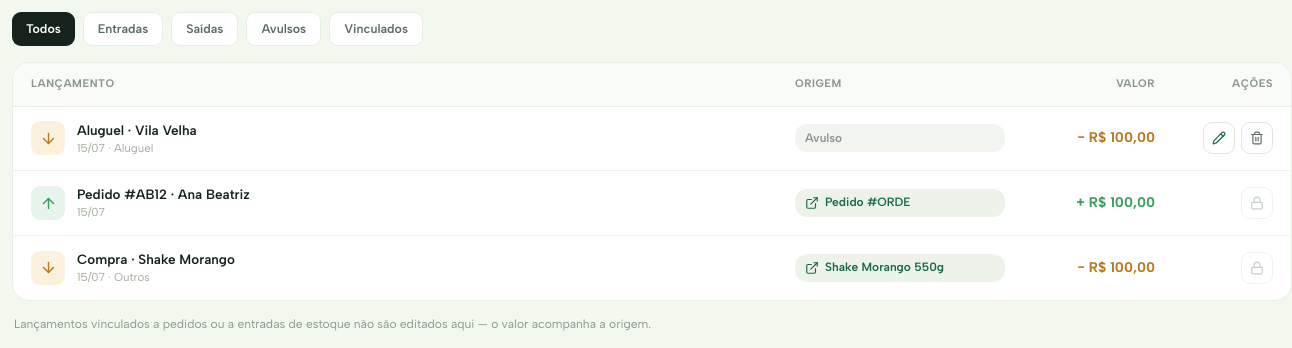
Test: MovimentacoesClient › filter pills narrow the visible rows
The width and height of the screenshot is (1292, 348).
Expected: the text "Aluguel · Vila Velha" is shown, [77,120,197,140]
Expected: the text "Pedido #AB12 · Ana Beatriz" is shown, [77,185,250,204]
Click the button "Avulsos" at (284, 29), box [246,12,321,46]
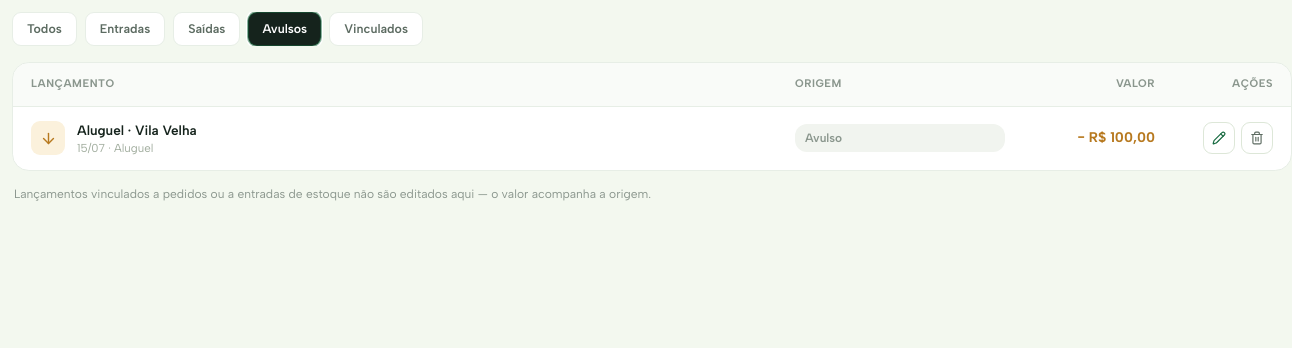
Expected: the text "Aluguel · Vila Velha" is shown, [77,120,197,140]
Now the text "Pedido #AB12" is gone
Now the text "Compra · Shake Morango" is gone
Click the button "Vinculados" at (376, 29), box [329,12,423,46]
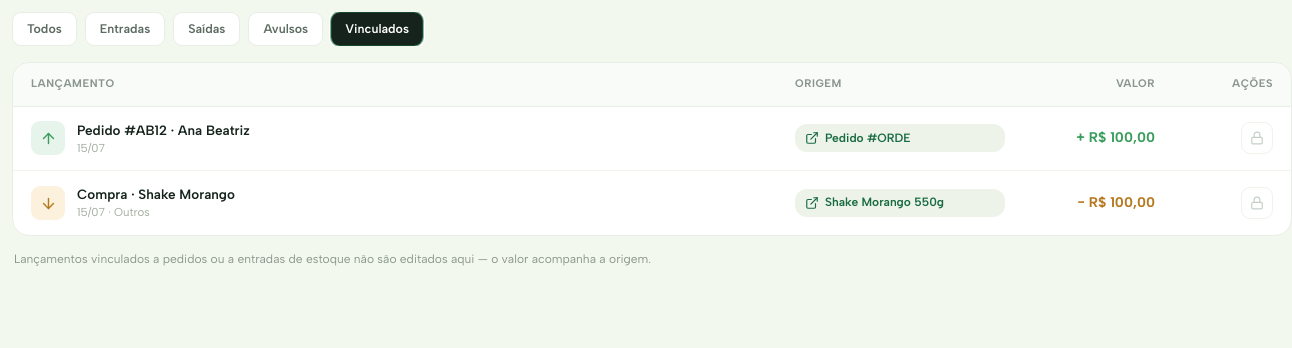
Now the text "Aluguel · Vila Velha" is gone
Now the text "Pedido #AB12 · Ana Beatriz" is shown, box [77,120,250,140]
Now the text "Compra · Shake Morango" is shown, box [77,185,235,204]
Click the button "Entradas" at (125, 29), box [85,12,165,46]
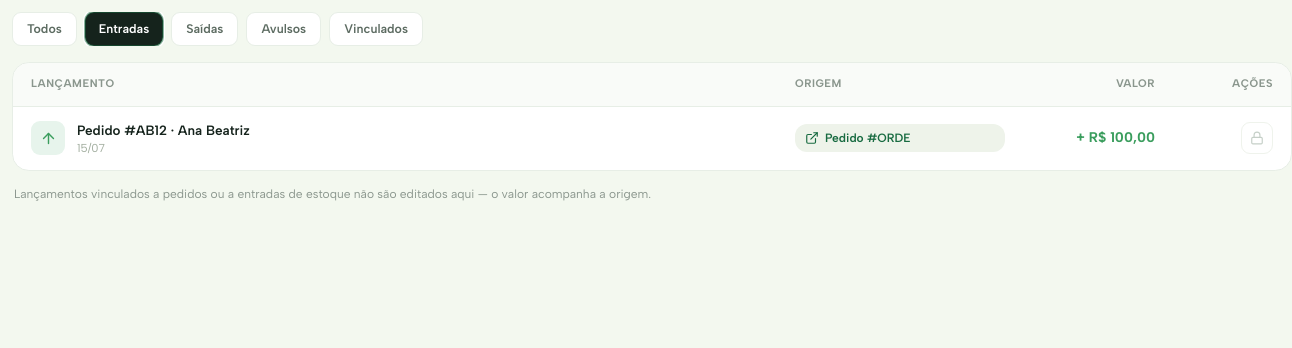
Now the text "Pedido #AB12 · Ana Beatriz" is shown, box [77,120,250,140]
Now the text "Compra · Shake Morango" is gone
